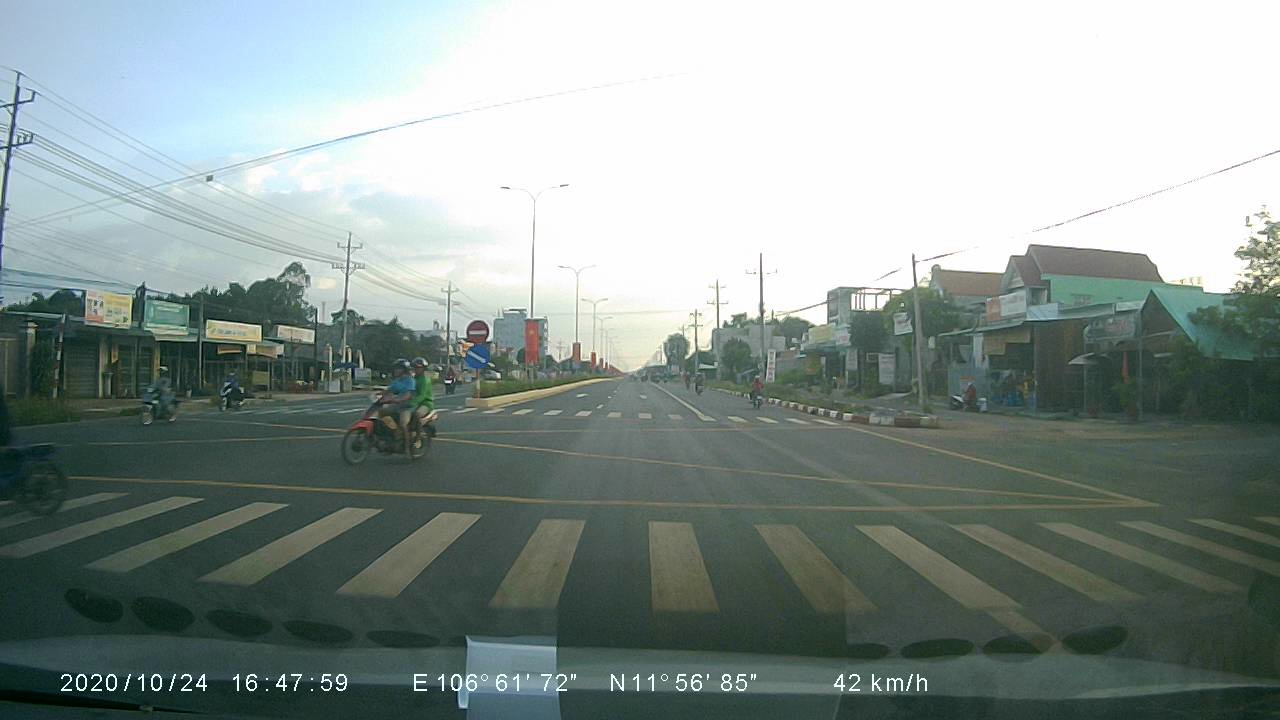Cam di nguoc chieu: (462, 316, 490, 344)
Huong di phai re phai: (463, 345, 490, 367)
